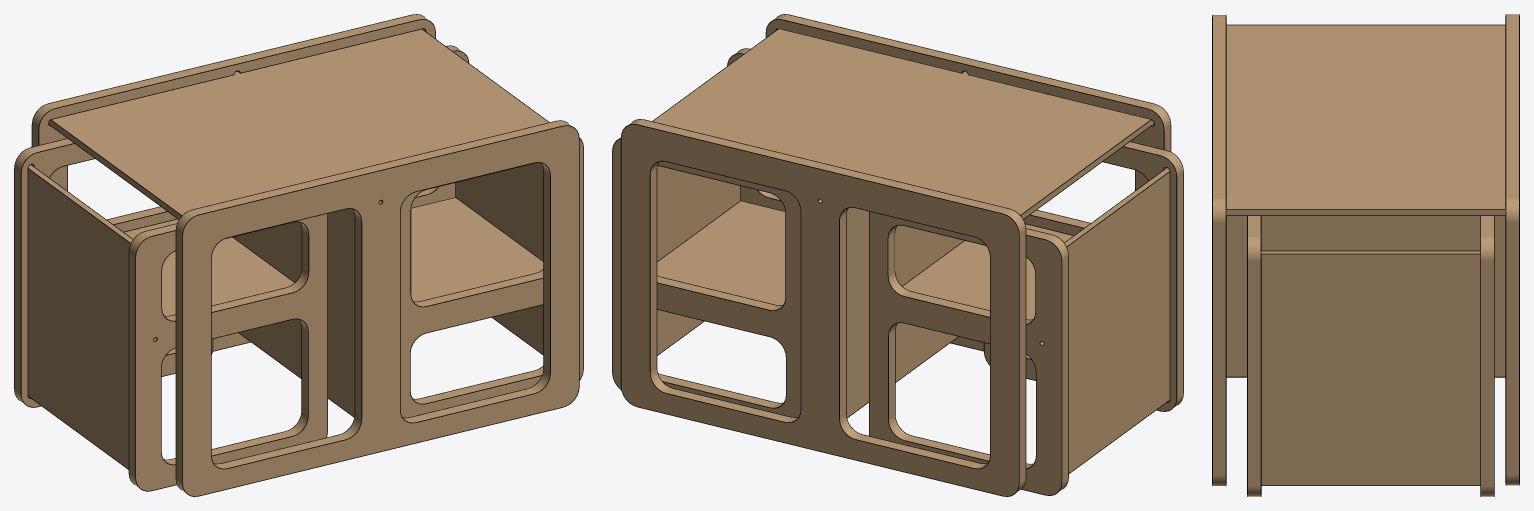
The model's file is modelo.glb.
3 views of the same model, side by side, from view 1: azimuth 30°, elevation 25°; view 2: azimuth 150°, elevation 25°; view 3: azimuth 270°, elevation 25° (orthographic).
Parts seen in each view (by area): view 1: Cuerpo36, Cuerpo34, Cuerpo43, Cuerpo42, Cuerpo40, Cuerpo35, Cuerpo39, Cuerpo37, Cuerpo38, Cuerpo45, Cuerpo36_Bordes, Cuerpo44 (+5 smaller); view 2: Cuerpo37, Cuerpo34, Cuerpo43, Cuerpo45, Cuerpo41, Cuerpo35, Cuerpo39, Cuerpo36, Cuerpo42, Cuerpo37_Bordes, Cuerpo38, Cuerpo44 (+5 smaller); view 3: Cuerpo34, Cuerpo38, Cuerpo35, Cuerpo37, Cuerpo36, Cuerpo40, Cuerpo41, Cuerpo37_Bordes, Cuerpo36_Bordes, Cuerpo34_Bordes, Cuerpo38_Bordes, Cuerpo40_Bordes (+1 smaller).
Part boxes in pixels (bbox=[...]): Cuerpo36: bbox=[176, 121, 578, 496]; Cuerpo34: bbox=[49, 29, 548, 218]; Cuerpo43: bbox=[28, 165, 132, 468]; Cuerpo42: bbox=[129, 214, 327, 490]; Cuerpo40: bbox=[400, 139, 583, 417]; Cuerpo35: bbox=[234, 208, 354, 416]; Cuerpo39: bbox=[411, 198, 543, 301]; Cuerpo37: bbox=[32, 14, 435, 350]; Cuerpo38: bbox=[456, 162, 543, 354]; Cuerpo45: bbox=[14, 139, 212, 406]; Cuerpo36_Bordes: bbox=[175, 120, 579, 496]; Cuerpo44: bbox=[124, 219, 293, 315]; Cuerpo37: bbox=[621, 119, 1025, 496]; Cuerpo34: bbox=[653, 29, 1153, 218]; Cuerpo43: bbox=[1064, 168, 1169, 472]; Cuerpo45: bbox=[869, 211, 1068, 495]; Cuerpo41: bbox=[612, 139, 800, 417]; Cuerpo35: bbox=[846, 207, 963, 417]; Cuerpo39: bbox=[657, 201, 785, 305]; Cuerpo36: bbox=[766, 14, 1170, 350]; Cuerpo42: bbox=[984, 142, 1183, 410]; Cuerpo37_Bordes: bbox=[620, 119, 1026, 496]; Cuerpo38: bbox=[657, 166, 740, 354]; Cuerpo44: bbox=[902, 224, 1072, 319]; Cuerpo34: bbox=[1226, 25, 1505, 215]; Cuerpo38: bbox=[1261, 251, 1480, 485]; Cuerpo35: bbox=[1226, 216, 1505, 376]; Cuerpo37: bbox=[1506, 14, 1518, 485]; Cuerpo36: bbox=[1213, 15, 1225, 485]; Cuerpo40: bbox=[1248, 216, 1260, 496]; Cuerpo41: bbox=[1481, 216, 1493, 496]; Cuerpo37_Bordes: bbox=[1505, 14, 1519, 485]; Cuerpo36_Bordes: bbox=[1212, 14, 1226, 486]; Cuerpo34_Bordes: bbox=[1226, 24, 1505, 215]; Cuerpo38_Bordes: bbox=[1261, 250, 1480, 485]; Cuerpo40_Bordes: bbox=[1247, 216, 1261, 496].
Size of the model in its own units: 0.7011 by 0.4222 by 0.4091.
